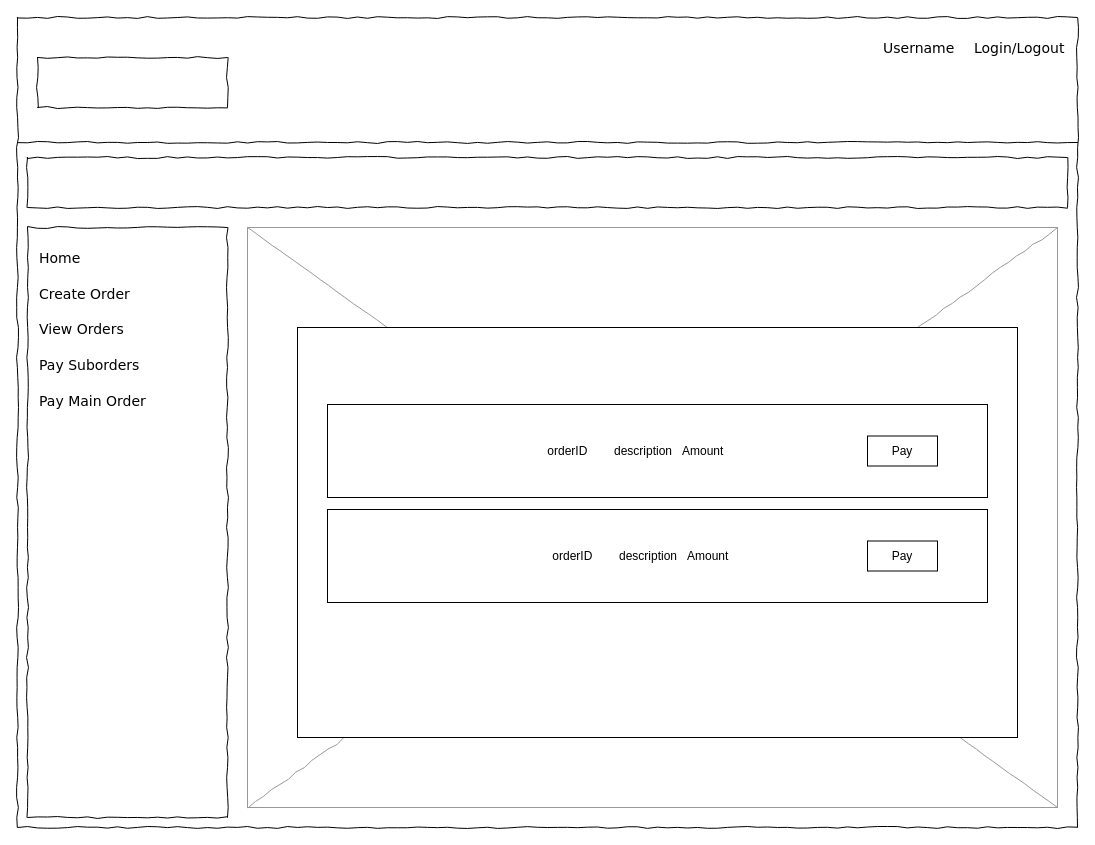
Image size: 1095x845. Some labels were removed from this diagram. Each missing label, with the centre of its shape:
LOGO: the point at 132,82
Pay MainOrder: the point at 547,182
